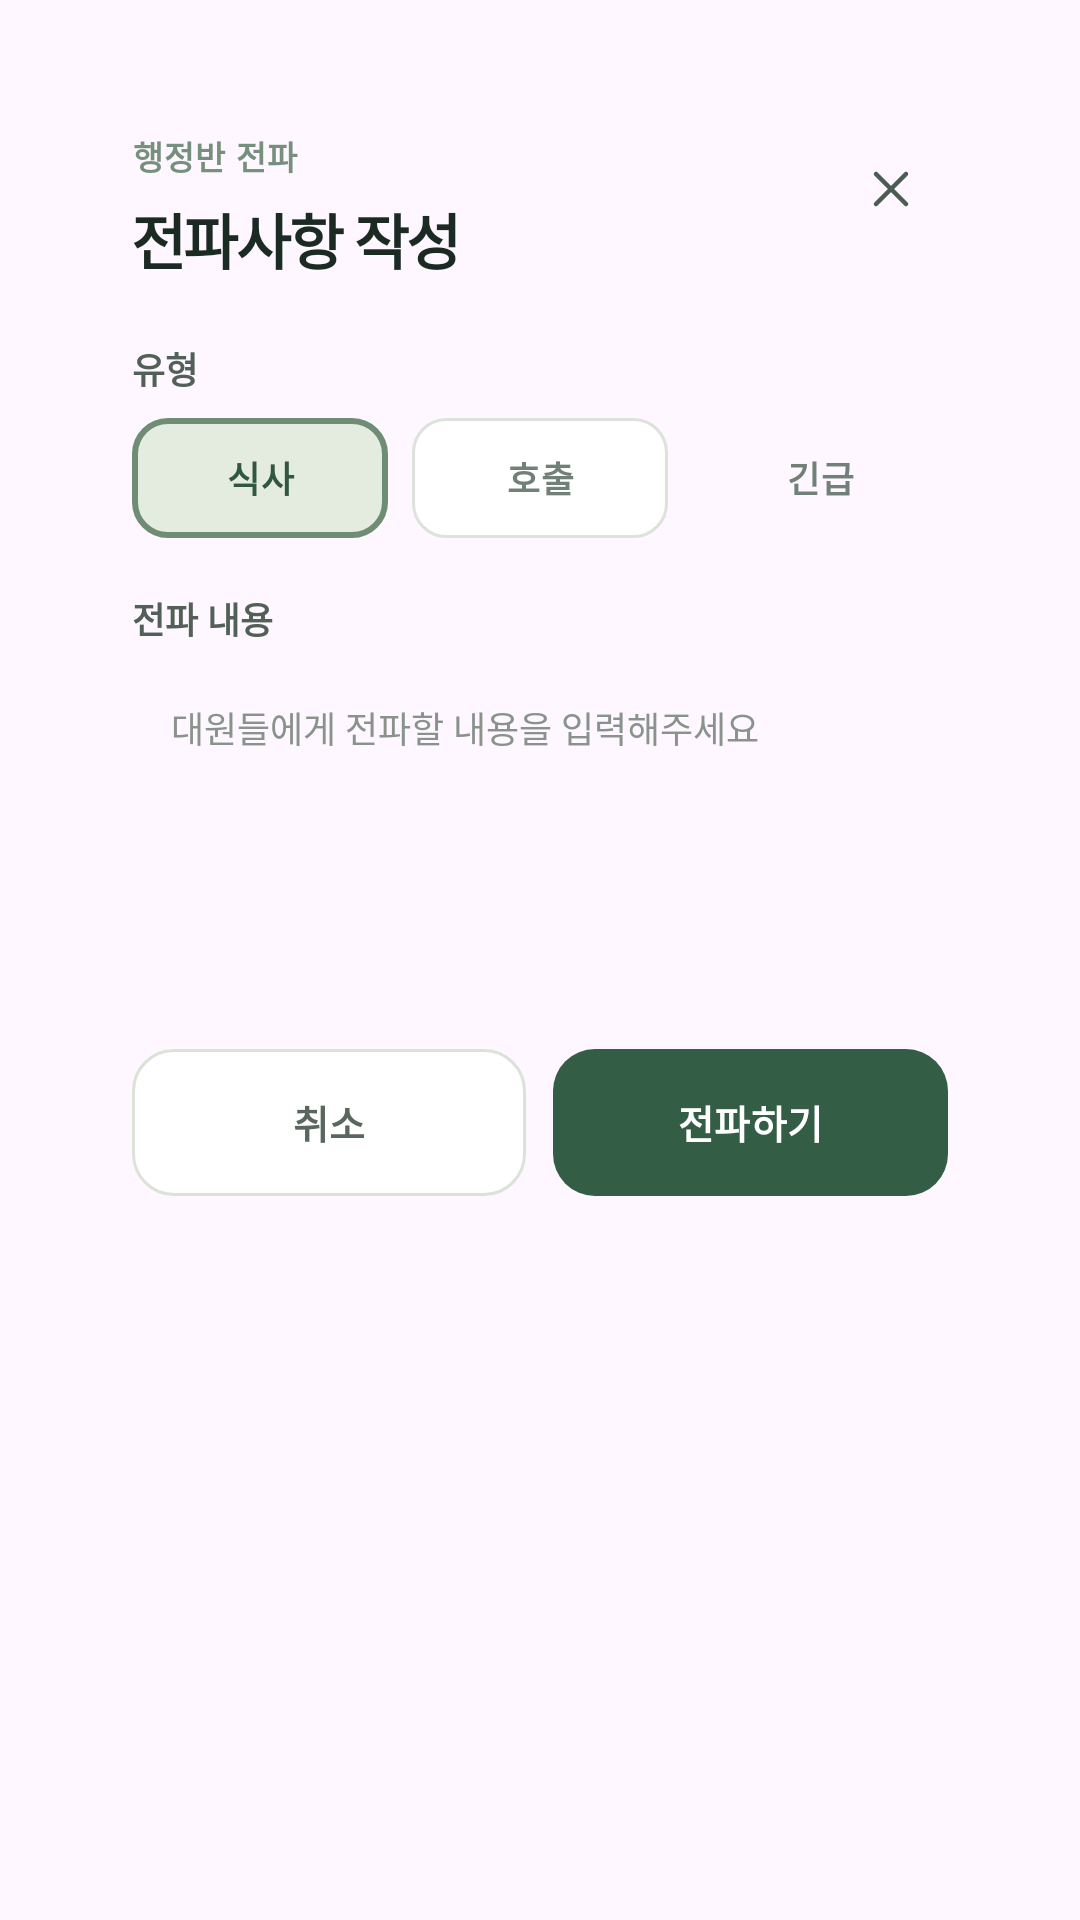

Screen size 1080x1920. Icon name, then its box in pixels as (x1, y1, x2, y2):
닫기: (874, 171, 908, 207)
